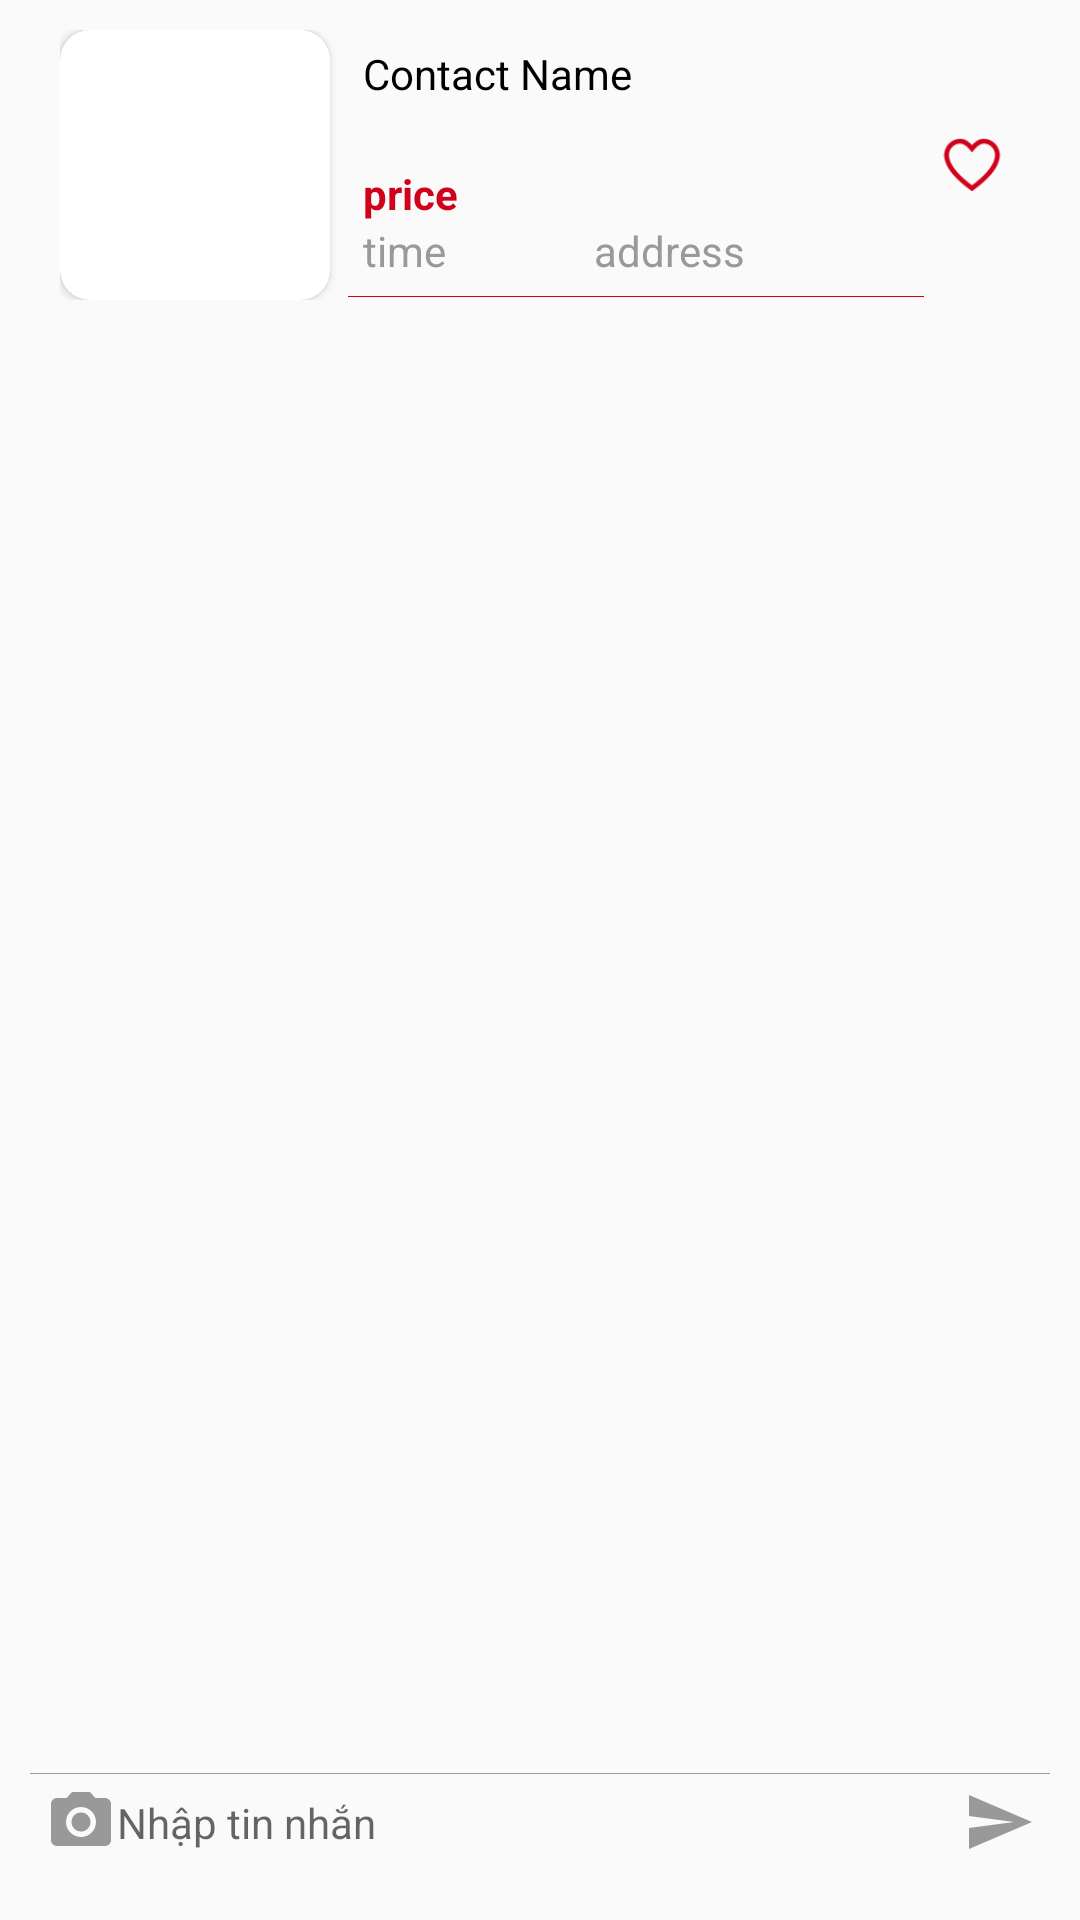

Locate icon controls on the screen. Image size 1080×1920, boxes as BBox(x1, y1, x2, y2).
heart: BBox(943, 138, 1001, 191)
